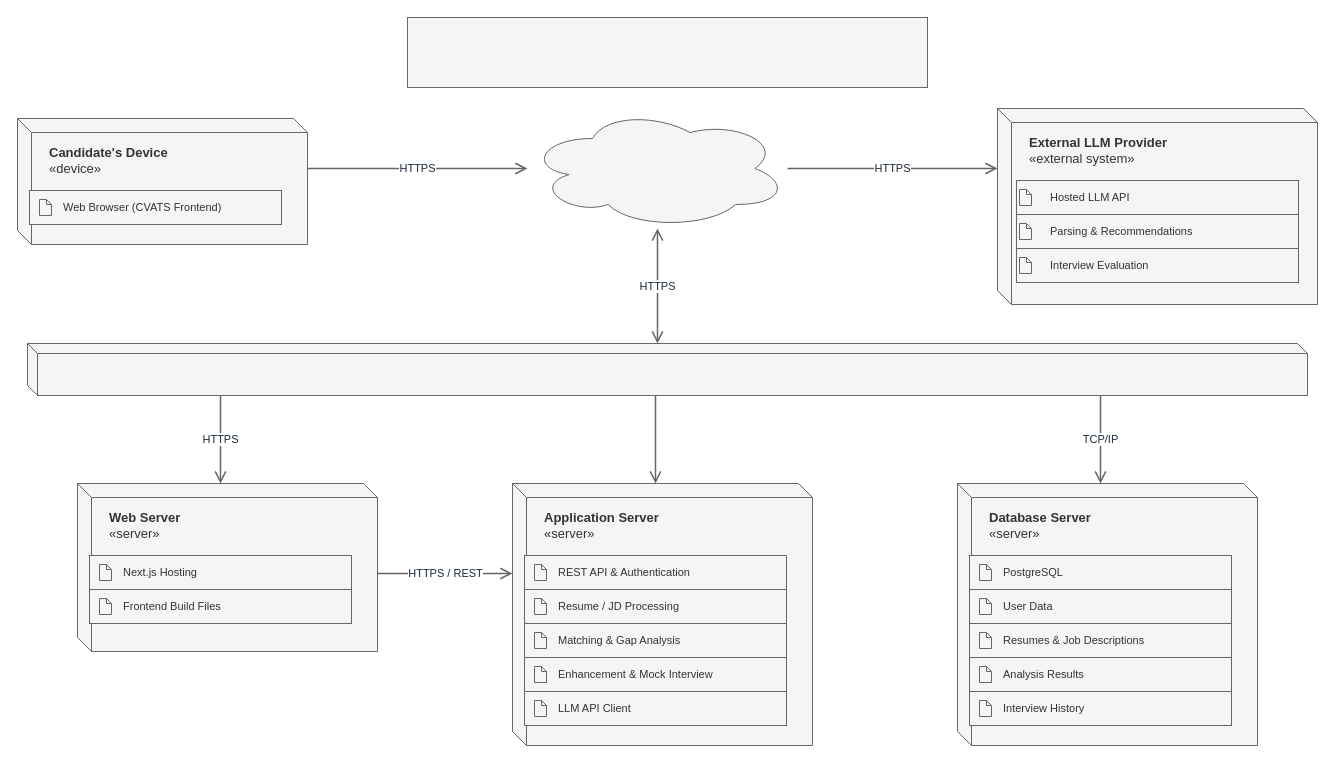
Some shapes in this 1335 by 763 pixel diagram are drawn without their labels. Here are the shapes that lost their labels. From the top down, the centre of each, then its label:
At [667,52]: "CVATS UML Deployment Diagram".
At [657,168]: "Internet «network»".
At [667,369]: "Local Network «network»".
